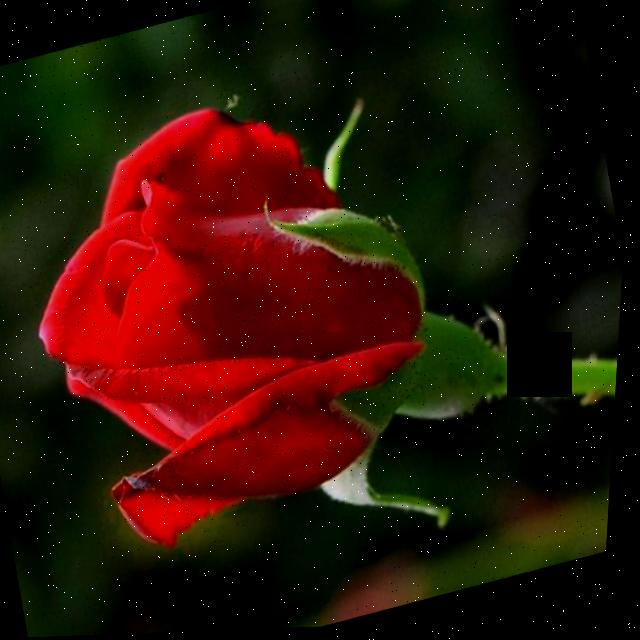rose: (0, 32, 588, 640)
